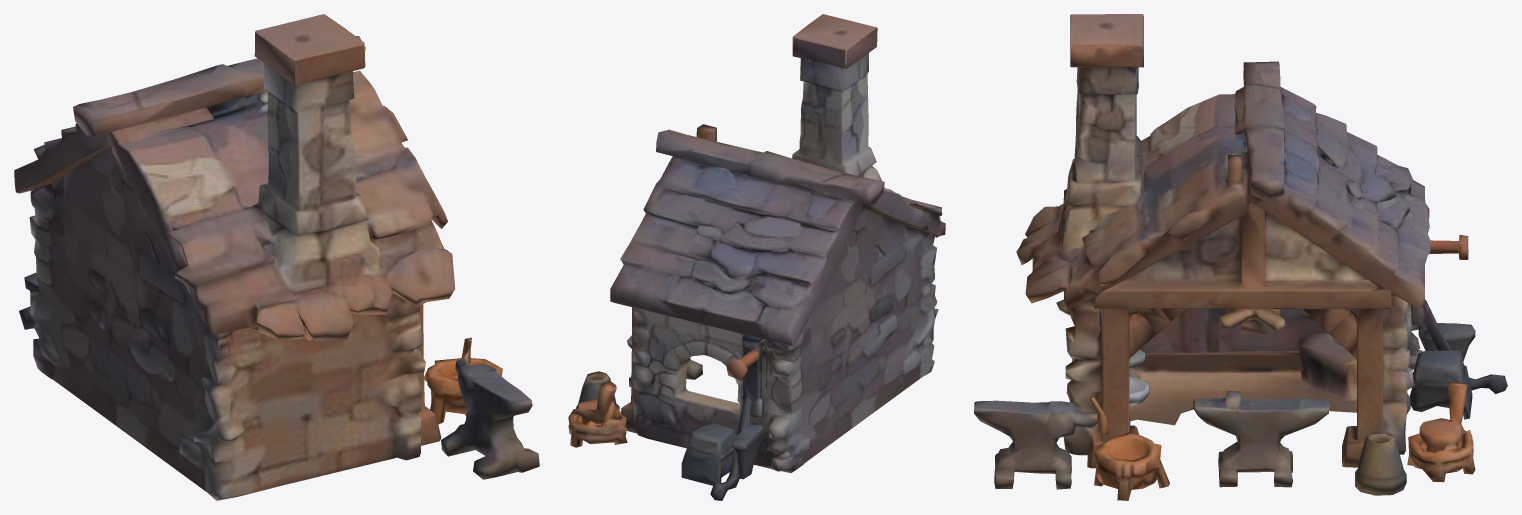
File: forge.glb
3 views of the same model, side by side, from view 1: azimuth 30°, elevation 25°; view 2: azimuth 150°, elevation 25°; view 3: azimuth 270°, elevation 25° (orthographic). The views are drawn at different scales.
Visible parts, largest first — view 1: ForgeBody; view 2: ForgeBody; view 3: ForgeBody.
Boxes of the visible parts, left/top/right/bottom form: ForgeBody: left=14, top=14, right=539, bottom=500; ForgeBody: left=568, top=14, right=945, bottom=500; ForgeBody: left=974, top=14, right=1507, bottom=500.
Bounding box in the file's own units: 4.71 × 5.68 × 7.
1 material, 1 textured.
